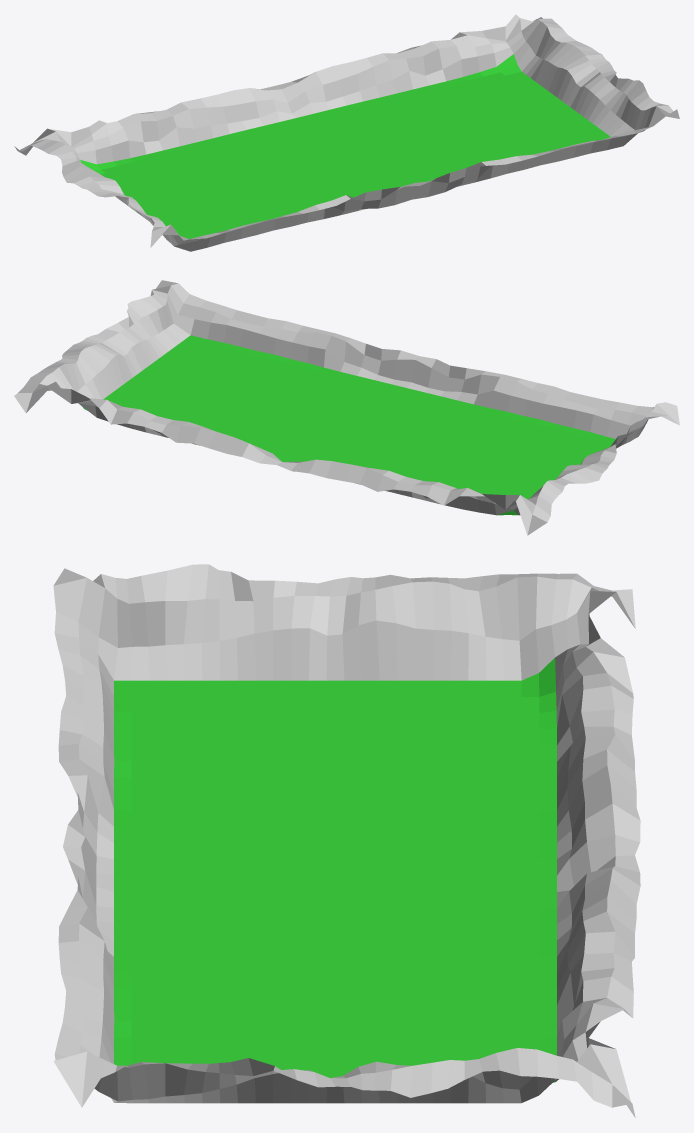
The model's file is DalamikForestGameBoard.fbx.
3 views of the same model, one above another, from view 1: azimuth 30°, elevation 25°; view 2: azimuth 150°, elevation 25°; view 3: azimuth 270°, elevation 25° (orthographic). The views are drawn at different scales.
Visible parts, largest first — view 1: Cube; view 2: Cube; view 3: Cube.
Boxes of the visible parts, bbox=[...] form: Cube: bbox=[14, 14, 679, 251]; Cube: bbox=[14, 280, 679, 535]; Cube: bbox=[53, 564, 640, 1117].
Size of the model in its own units: 3479 by 248 by 1661.
